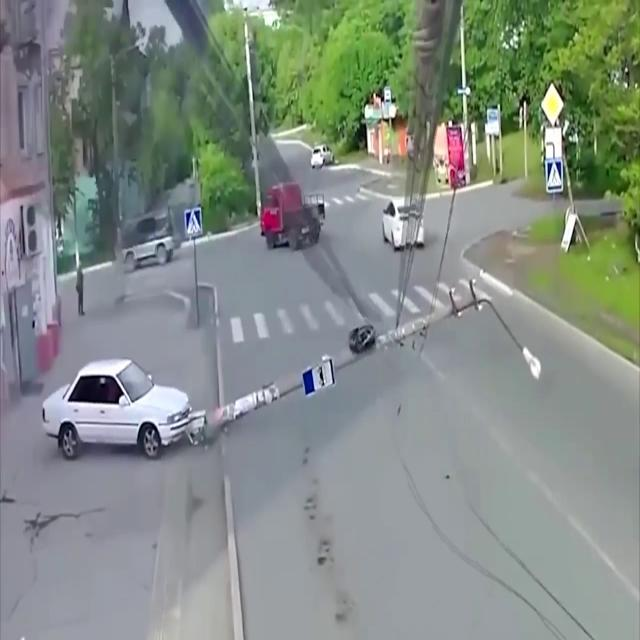normal: (230, 157, 485, 287)
single accident: (50, 270, 548, 538)
